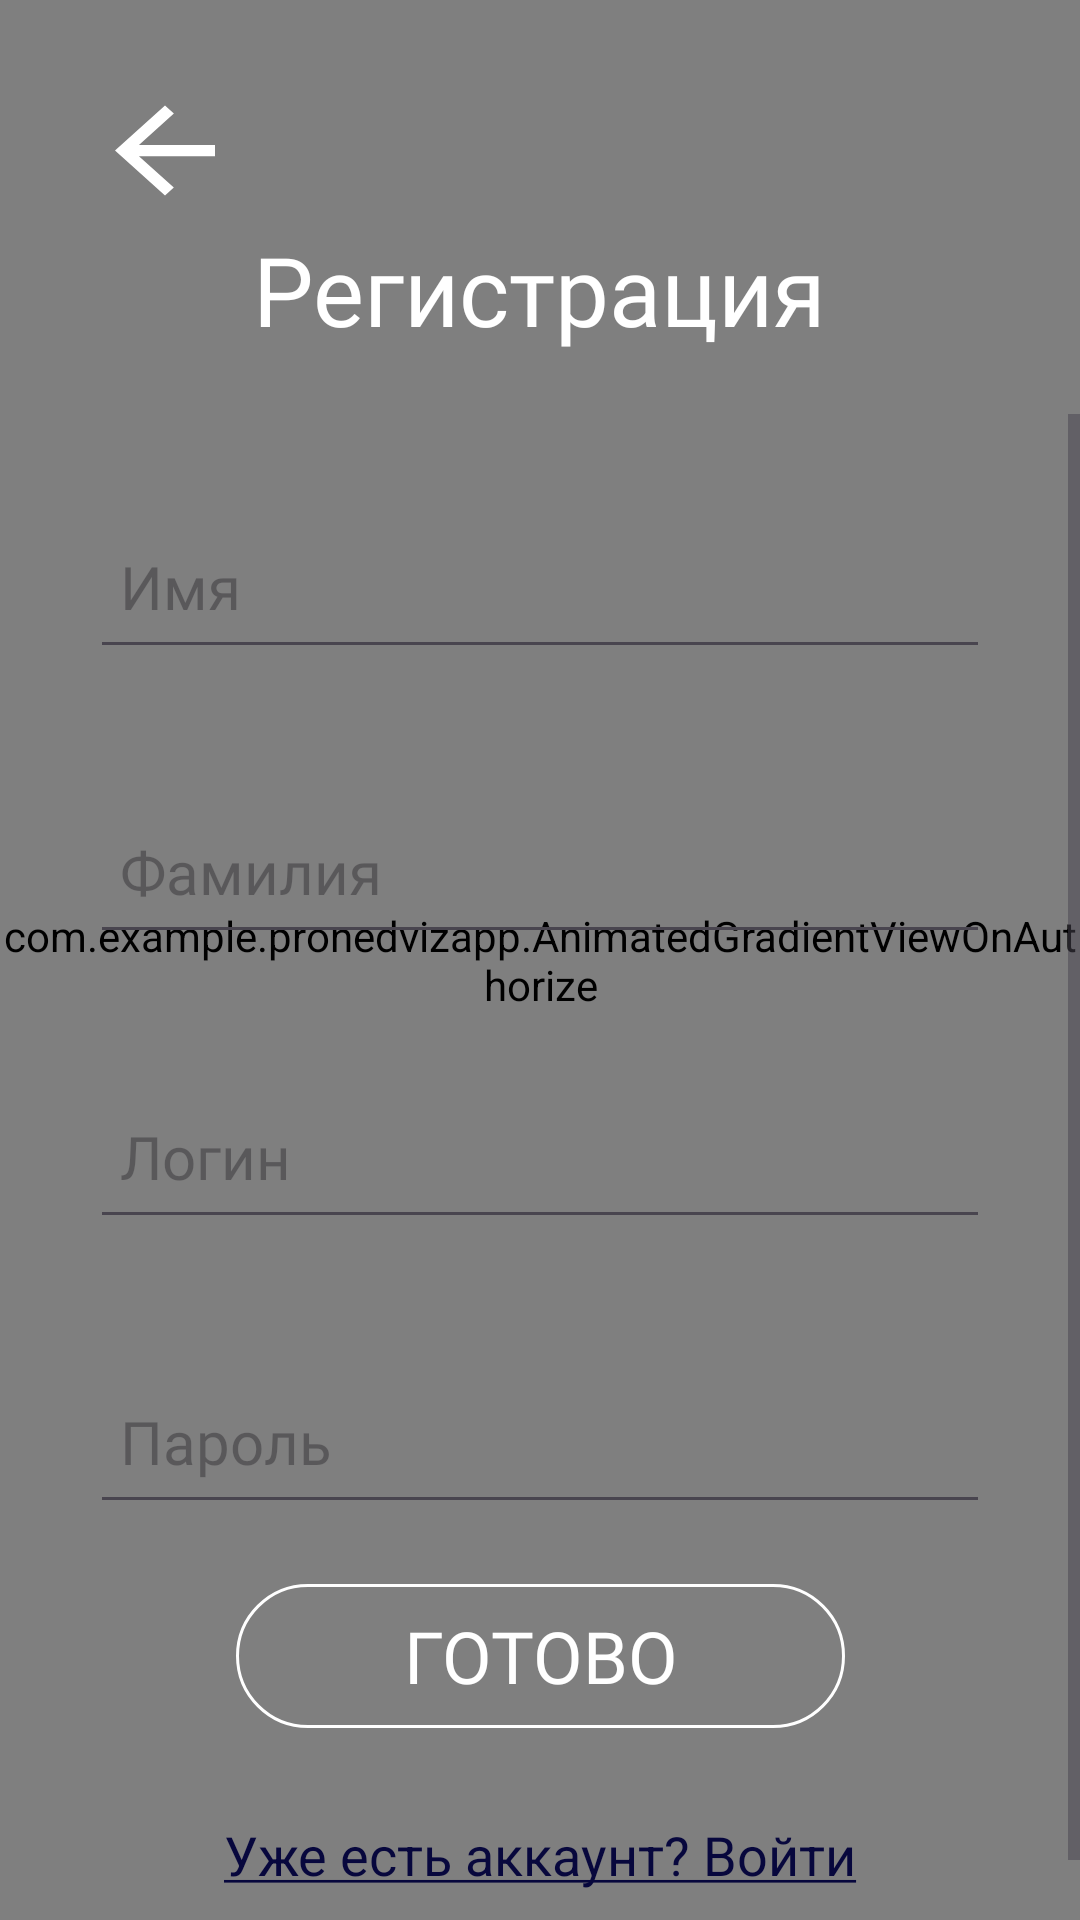

Named icons in this screenshot (1080 x 1920) and their bounding boxes, (x1, y1, x2, y2):
go back: (115, 106, 215, 195)
